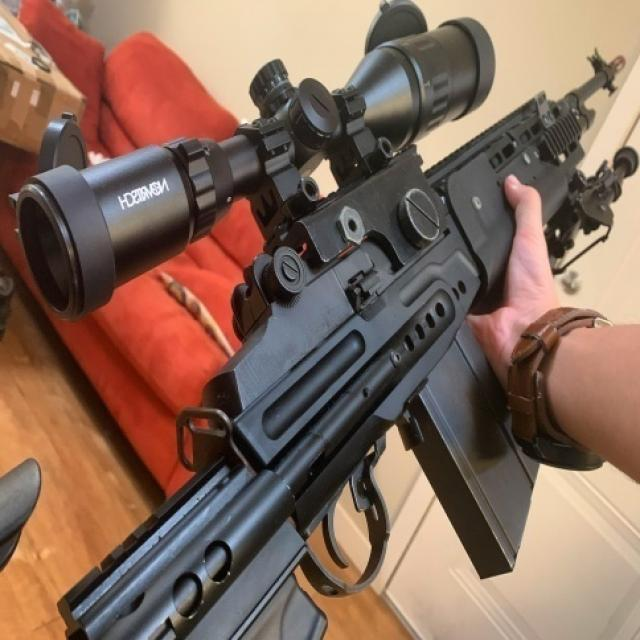Gun: (1, 10, 634, 640)
